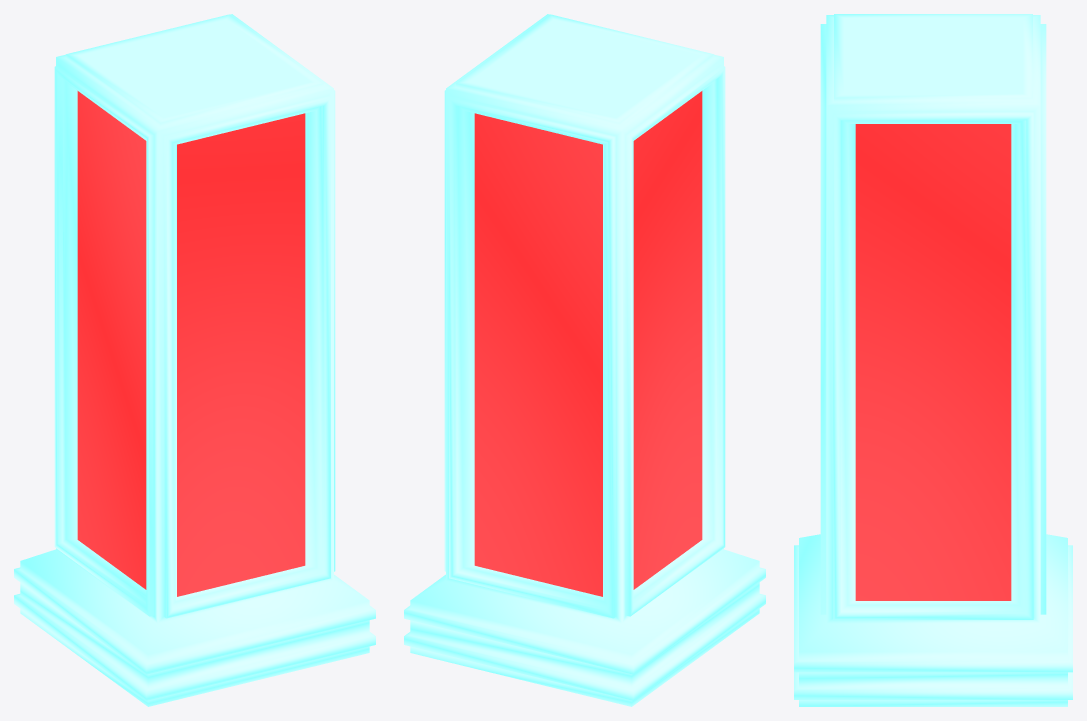
File: light4.fbx
The picture shows the model from 3 angles, left to right: view 1: azimuth 30°, elevation 25°; view 2: azimuth 150°, elevation 25°; view 3: azimuth 270°, elevation 25°; orthographic projection. The views are drawn at different scales.
Parts seen in each view (by area): view 1: HSHP_MOD_Table_lamp_02; view 2: HSHP_MOD_Table_lamp_02; view 3: HSHP_MOD_Table_lamp_02.
Part boxes in pixels (x1,y1,x2,y2): HSHP_MOD_Table_lamp_02: [14, 14, 375, 706]; HSHP_MOD_Table_lamp_02: [404, 14, 765, 706]; HSHP_MOD_Table_lamp_02: [794, 14, 1072, 706].
Bounding box in the file's own units: 24.3 × 57.1 × 24.3.
